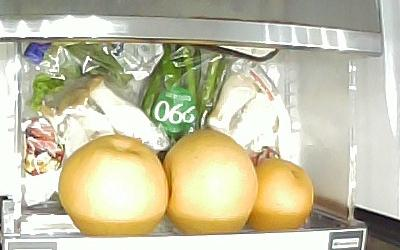pear: (60, 134, 168, 237), (163, 128, 257, 236), (246, 156, 315, 232)
